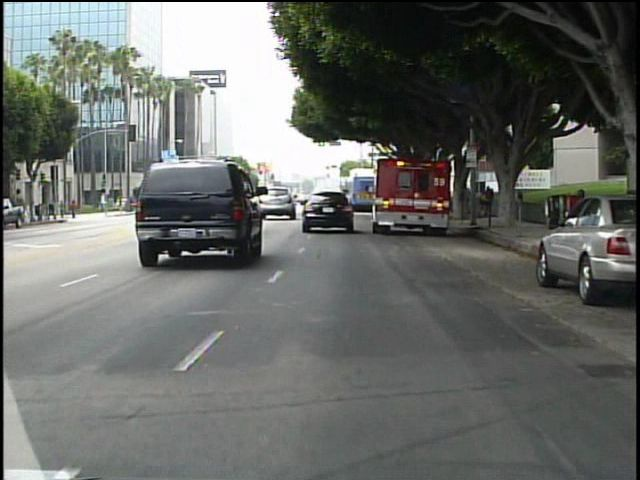person: (481, 184, 495, 219), (69, 196, 82, 222), (58, 197, 69, 221)
